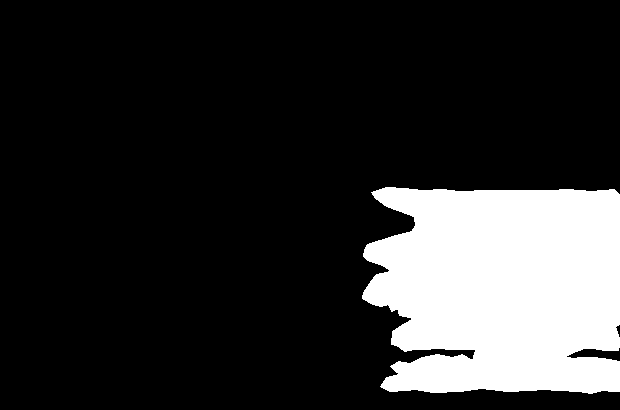type4: (362, 177, 620, 401)
